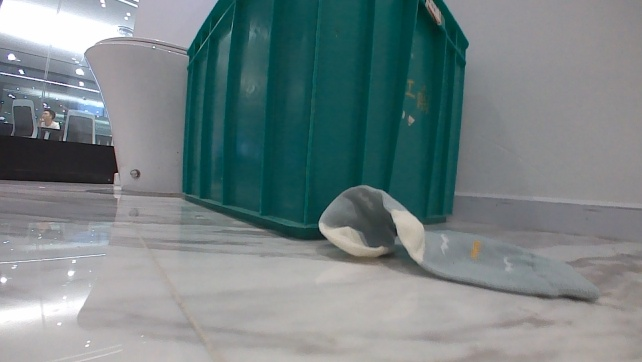socks: (307, 177, 599, 308)
toilet: (78, 31, 190, 197)
